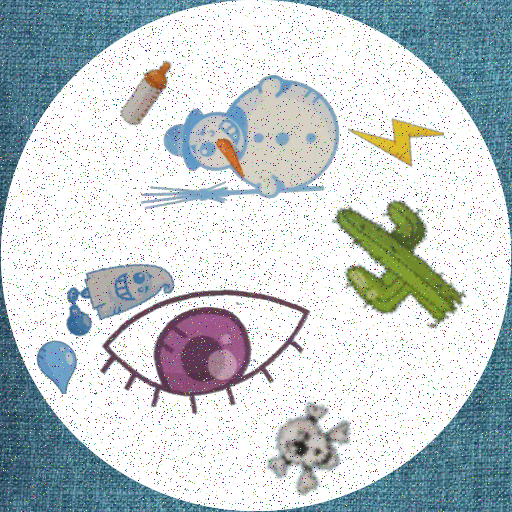bottle_icon: (110, 55, 186, 131)
cactus_icon: (314, 185, 478, 349)
eye_icon: (99, 235, 314, 450)
ghost_icon: (57, 234, 179, 356)
lightning_icon: (348, 88, 444, 184)
raindrop_icon: (30, 339, 85, 394)
skull_icon: (258, 394, 360, 496)
snowman_icon: (137, 56, 344, 263)
